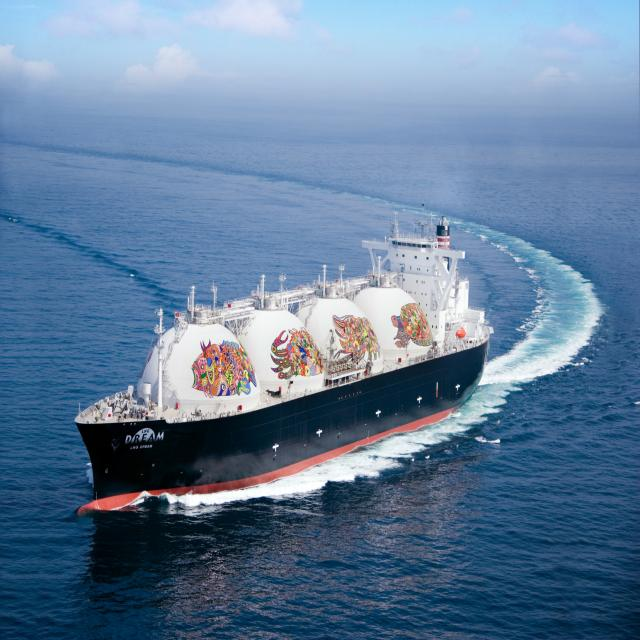boat: (72, 201, 497, 526)
